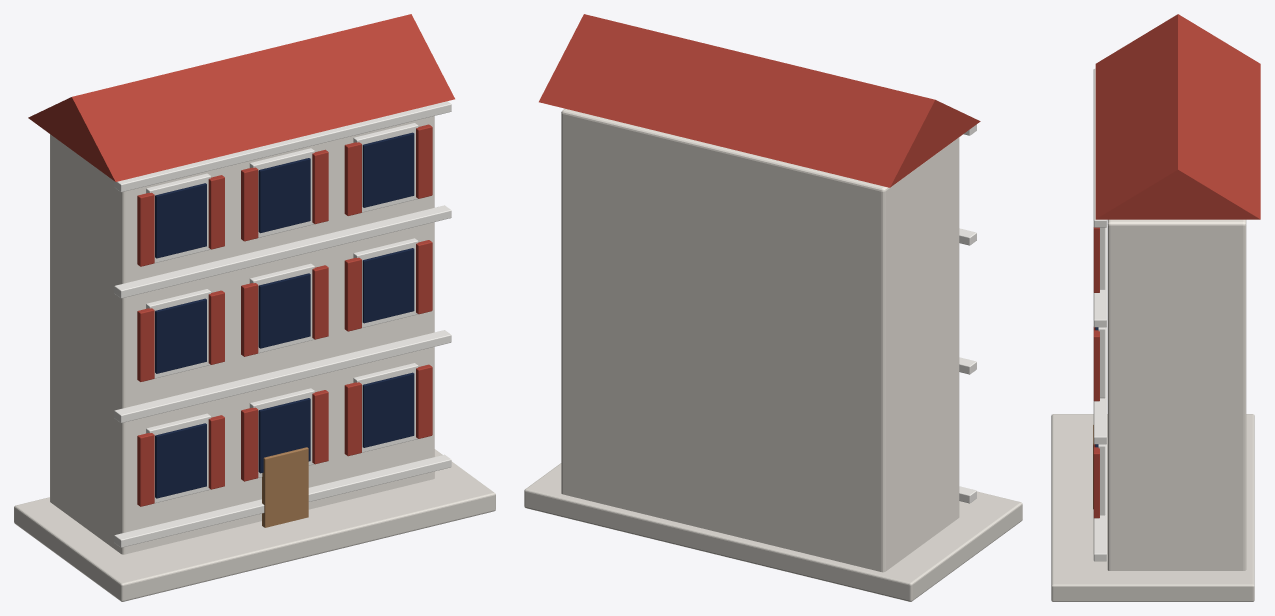
File: 09_building.glb
The picture shows the model from 3 angles, left to right: view 1: azimuth 30°, elevation 25°; view 2: azimuth 150°, elevation 25°; view 3: azimuth 270°, elevation 25°; orthographic projection. The views are drawn at different scales.
Parts seen in each view (by area): view 1: Building_Mass, Pitched_Roof, Building_Base, Facade_Cornice.002, Facade_Cornice.001, Facade_Cornice, Facade_Cornice.003, Facade_Window.002, Facade_Window.005, Facade_Window.008, Facade_Window.004, Facade_Window.007 (+32 smaller); view 2: Building_Mass, Pitched_Roof, Building_Base; view 3: Building_Mass, Pitched_Roof, Building_Base, Facade_Cornice, Facade_Cornice.001, Facade_Cornice.002, Facade_Cornice.003, Facade_Shutter.005, Facade_Shutter.011, Facade_Shutter.017, Facade_Window_Trim.002, Facade_Window_Trim.005 (+1 smaller).
Boxes of the visible parts, bbox=[...] form: Building_Mass: bbox=[50, 116, 434, 554]; Pitched_Roof: bbox=[28, 14, 454, 181]; Building_Base: bbox=[14, 449, 495, 601]; Facade_Cornice.002: bbox=[114, 205, 451, 298]; Facade_Cornice.001: bbox=[114, 330, 451, 422]; Facade_Cornice: bbox=[114, 454, 451, 547]; Facade_Cornice.003: bbox=[114, 101, 451, 192]; Facade_Window.002: bbox=[362, 372, 414, 447]; Facade_Window.005: bbox=[362, 248, 414, 323]; Facade_Window.008: bbox=[362, 132, 414, 207]; Facade_Window.004: bbox=[258, 273, 310, 348]; Facade_Window.007: bbox=[258, 158, 310, 233]; Building_Mass: bbox=[561, 108, 959, 572]; Pitched_Roof: bbox=[539, 14, 980, 187]; Building_Base: bbox=[524, 463, 1022, 601]; Building_Mass: bbox=[1107, 219, 1246, 570]; Pitched_Roof: bbox=[1095, 14, 1260, 219]; Building_Base: bbox=[1051, 414, 1254, 601]; Facade_Cornice: bbox=[1093, 444, 1106, 561]; Facade_Cornice.001: bbox=[1093, 327, 1106, 444]; Facade_Cornice.002: bbox=[1093, 227, 1106, 327]; Facade_Cornice.003: bbox=[1093, 68, 1106, 227]; Facade_Shutter.005: bbox=[1093, 447, 1099, 518]; Facade_Shutter.011: bbox=[1093, 330, 1099, 401]; Facade_Shutter.017: bbox=[1093, 227, 1099, 292]; Facade_Window_Trim.002: bbox=[1098, 444, 1105, 515]; Facade_Window_Trim.005: bbox=[1098, 327, 1105, 398].
Bounding box in the file's own units: 1.7 × 1.96 × 0.875.
